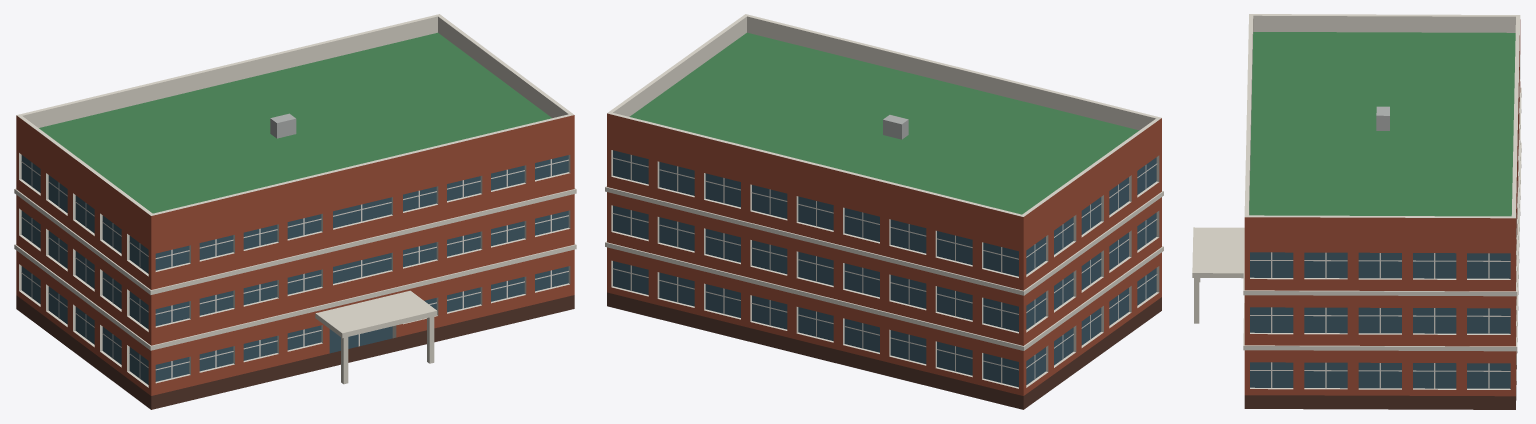
The picture shows the model from 3 angles, left to right: view 1: azimuth 30°, elevation 25°; view 2: azimuth 150°, elevation 25°; view 3: azimuth 270°, elevation 25°; orthographic projection.
Parts seen in each view (by area): view 1: wing5__wall-plaster, wing5__roof, wing5__trim-concrete, wing5__glass, wing5__base-stone, wing5__canopy-concrete, wing5__frame, wing5__equipment; view 2: wing5__wall-plaster, wing5__roof, wing5__glass, wing5__trim-concrete, wing5__base-stone, wing5__frame, wing5__equipment; view 3: wing5__roof, wing5__wall-plaster, wing5__glass, wing5__trim-concrete, wing5__base-stone, wing5__canopy-concrete, wing5__frame, wing5__equipment.
Part boxes in pixels (x1,y1,x2,y2): wing5__wall-plaster: (16, 115, 574, 395); wing5__roof: (39, 32, 551, 213); wing5__trim-concrete: (14, 14, 576, 387); wing5__glass: (21, 155, 568, 384); wing5__base-stone: (16, 295, 574, 409); wing5__canopy-concrete: (315, 290, 437, 384); wing5__frame: (21, 159, 568, 378); wing5__equipment: (270, 113, 296, 138); wing5__wall-plaster: (607, 113, 1161, 395); wing5__roof: (629, 32, 1139, 214); wing5__glass: (613, 150, 1156, 387); wing5__trim-concrete: (605, 14, 1163, 388); wing5__base-stone: (607, 292, 1161, 409); wing5__frame: (612, 155, 1157, 383); wing5__equipment: (883, 115, 908, 139); wing5__roof: (1249, 32, 1515, 216); wing5__wall-plaster: (1244, 19, 1520, 396); wing5__glass: (1250, 252, 1510, 388); wing5__trim-concrete: (1243, 14, 1521, 389); wing5__base-stone: (1244, 351, 1517, 409); wing5__canopy-concrete: (1192, 227, 1244, 323); wing5__frame: (1250, 252, 1510, 388); wing5__equipment: (1376, 106, 1389, 130).
Size of the model in its own units: 28.83 by 12.55 by 19.53.
